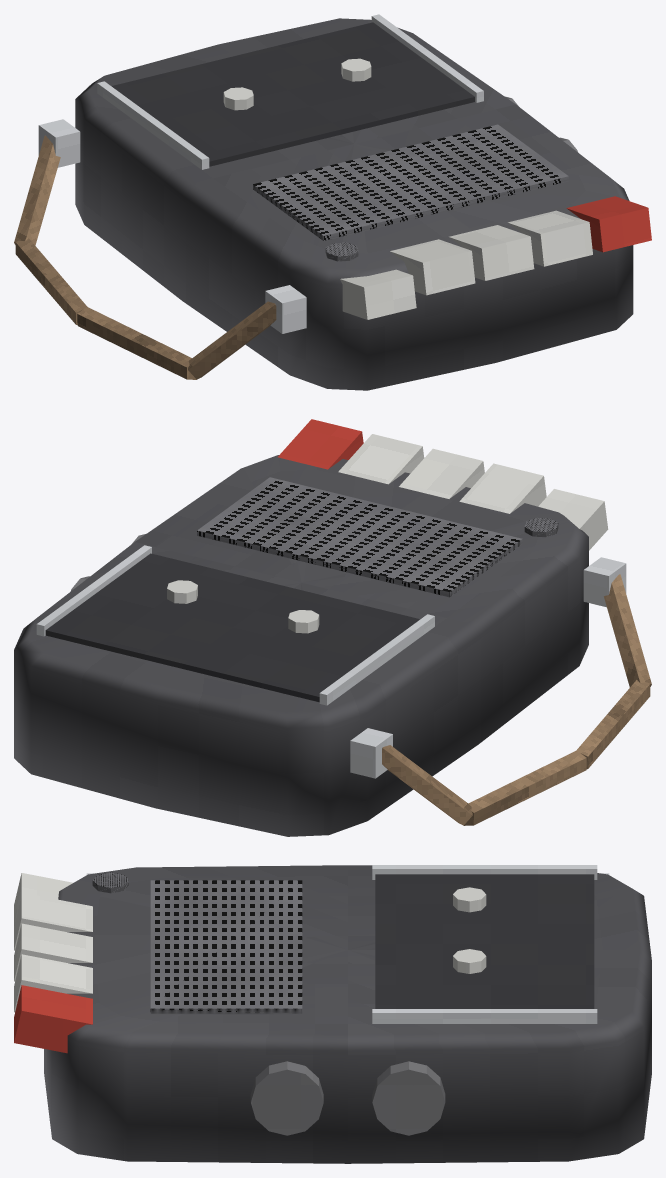
The model's file is item_recorder.glb.
The picture shows the model from 3 angles, top to bottom: view 1: azimuth 30°, elevation 25°; view 2: azimuth 150°, elevation 25°; view 3: azimuth 270°, elevation 25°; orthographic projection. The views are drawn at different scales.
Visible parts, largest first — view 1: recorder; view 2: recorder; view 3: recorder.
Boxes of the visible parts, x1,y1,x2,y2 form: recorder: [14, 14, 651, 390]; recorder: [14, 419, 651, 836]; recorder: [14, 865, 651, 1163].
Size of the model in its own units: 0.1892 by 0.0548 by 0.2099.
9 materials, 9 textured.
